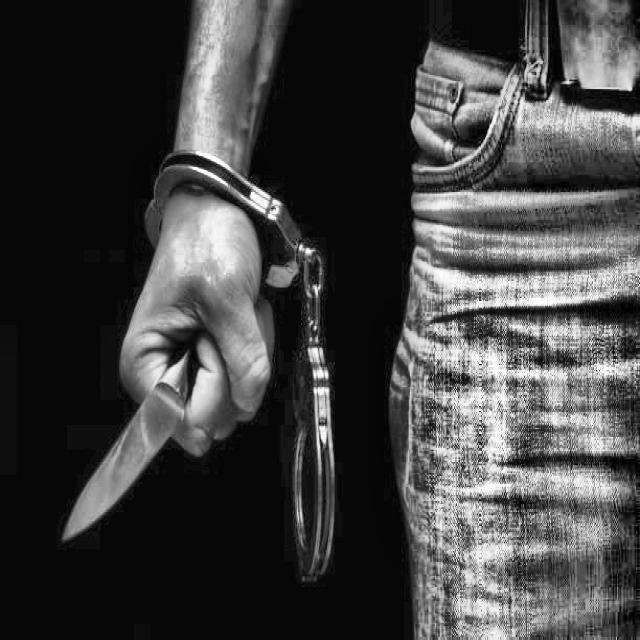pisau: (60, 335, 215, 552)
